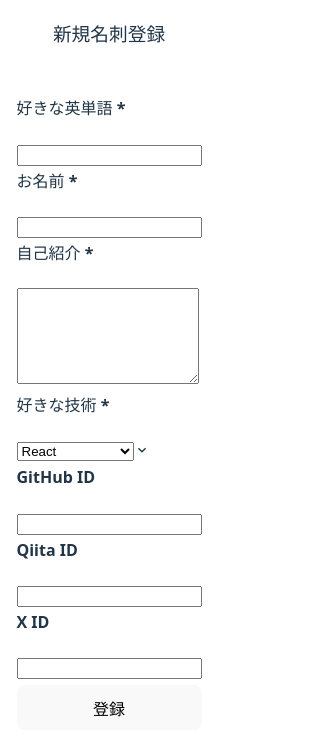
登録ページのテスト › 名前がない場合にエラーメッセージが出る
Step 1. Type "sample" into the field with test id "idForm" → coordinates (109, 155), box [16,145,202,166]
Step 2. Type "よろしく" into the text box with test id "descriptionForm" → coordinates (108, 336), box [16,288,198,384]
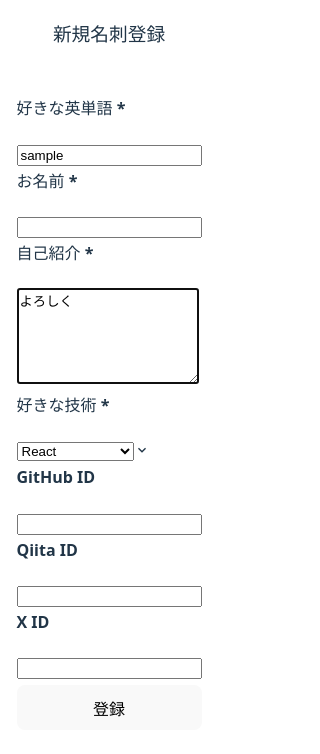
Step 3. Select "React" in the dropdown with test id "skillForm" → coordinates (75, 452), box [16,442,134,461]
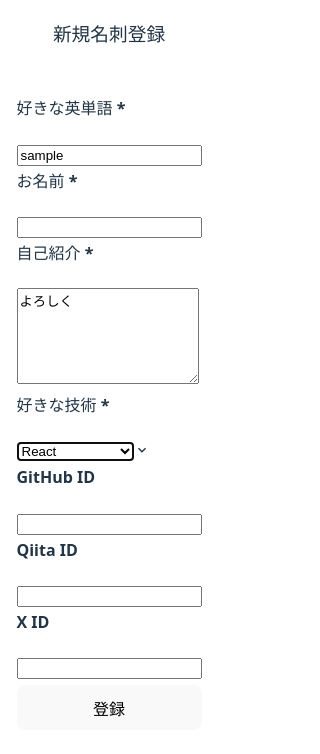
Step 4. Type "hoge" into the field with test id "GithubForm" → coordinates (109, 524), box [16,514,202,535]
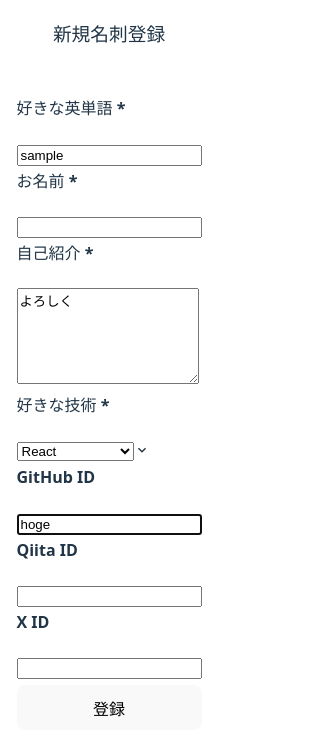
Step 5. Type "hoge" into the field with test id "qiitaForm" → coordinates (109, 596), box [16,586,202,607]
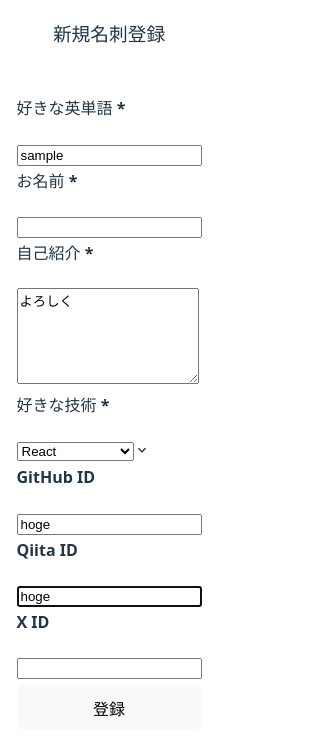
Step 6. Type "hoge" into the field with test id "twitterForm" → coordinates (109, 669), box [16,658,202,679]
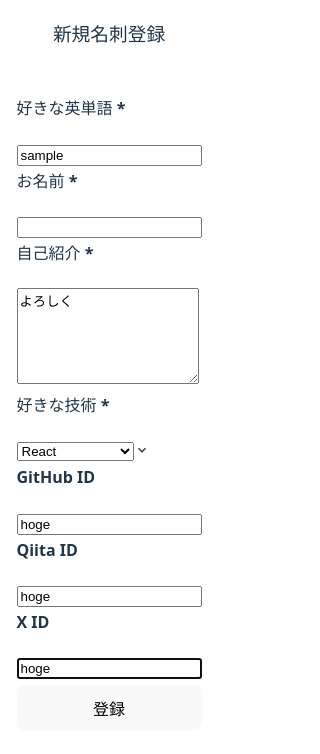
Step 7. Click the button with test id "submitButton" → coordinates (109, 708), box [16,685,202,730]
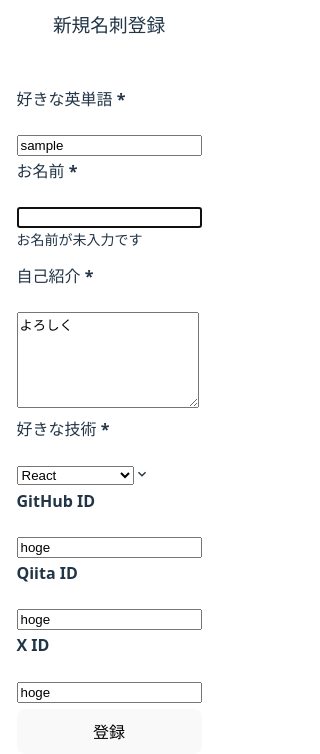
Now the text "お名前が未入力です" is shown, box [16,230,142,249]
